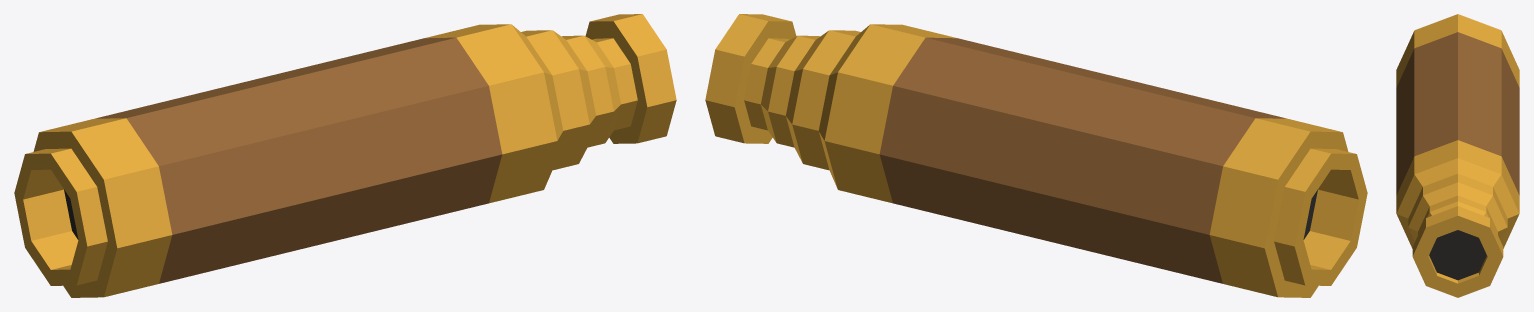
File: Spygalss_2.fbx
3 renders of one model, left to right at view 1: azimuth 30°, elevation 25°; view 2: azimuth 150°, elevation 25°; view 3: azimuth 270°, elevation 25°, orthographic. The views are drawn at different scales.
Parts seen in each view (by area): view 1: Spygalss_2; view 2: Spygalss_2; view 3: Spygalss_2.
Boxes of the visible parts, x1,y1,x2,y2 form: Spygalss_2: (14, 14, 676, 297); Spygalss_2: (705, 14, 1367, 297); Spygalss_2: (1396, 14, 1519, 297).
Bounding box in the file's own units: 22.36 × 6.01 × 6.01.
